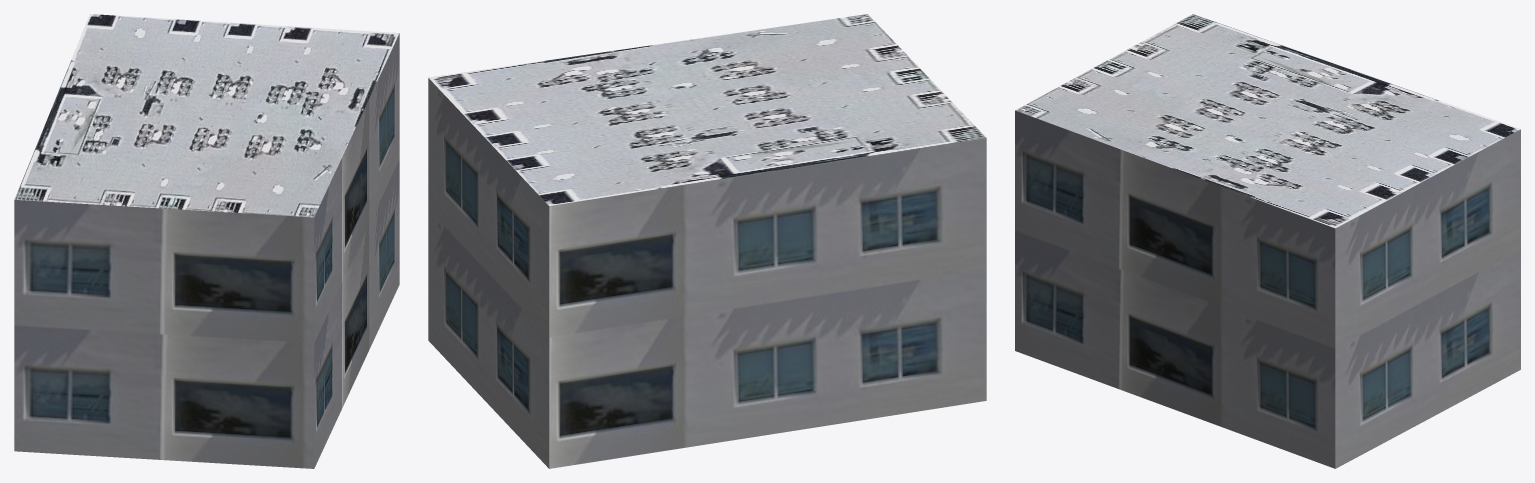
File: ResTex__185.fbx
3 views of the same model, side by side, from view 1: azimuth 30°, elevation 25°; view 2: azimuth 150°, elevation 25°; view 3: azimuth 270°, elevation 25° (orthographic). The views are drawn at different scales.
Visible parts, largest first — view 1: CityEngineMaterial_10_m, CityEngineMaterial_m; view 2: CityEngineMaterial_10_m, CityEngineMaterial_m; view 3: CityEngineMaterial_10_m, CityEngineMaterial_m.
Boxes of the visible parts, x1,y1,x2,y2 form: CityEngineMaterial_10_m: (14,33,399,468); CityEngineMaterial_m: (14,14,399,217); CityEngineMaterial_10_m: (428,78,986,468); CityEngineMaterial_m: (428,14,986,205); CityEngineMaterial_10_m: (1015,110,1520,468); CityEngineMaterial_m: (1015,14,1520,228).
Size of the model in its own units: 11.48 by 6 by 11.44.
2 materials, 2 textured.
